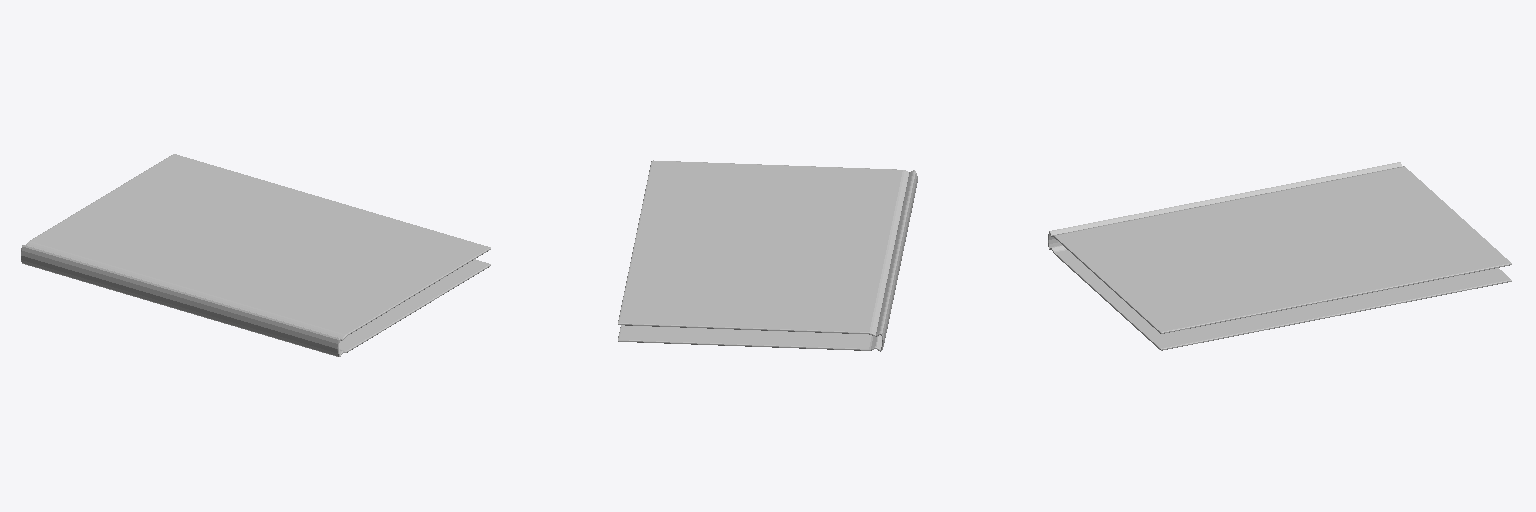
Rendered from book-three-cover.obj.
3 views of the same model, side by side, from view 1: azimuth 30°, elevation 25°; view 2: azimuth 150°, elevation 25°; view 3: azimuth 270°, elevation 25° (orthographic).
Visible parts, largest first — view 1: books_and_mugs:Line002; view 2: books_and_mugs:Line002; view 3: books_and_mugs:Line002.
Boxes of the visible parts, x1,y1,x2,y2 form: books_and_mugs:Line002: [21, 154, 490, 356]; books_and_mugs:Line002: [618, 160, 917, 351]; books_and_mugs:Line002: [1048, 162, 1511, 350].
Size of the model in its own units: 0.9762 by 0.0504 by 1.12.